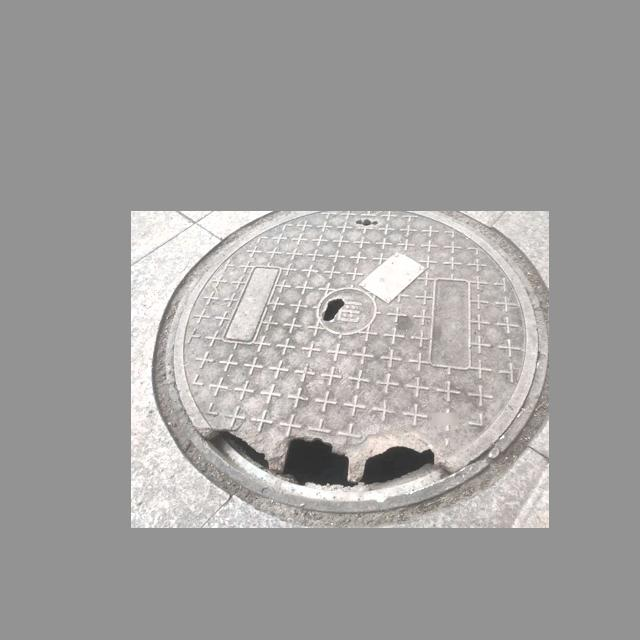broke: (166, 211, 548, 515)
